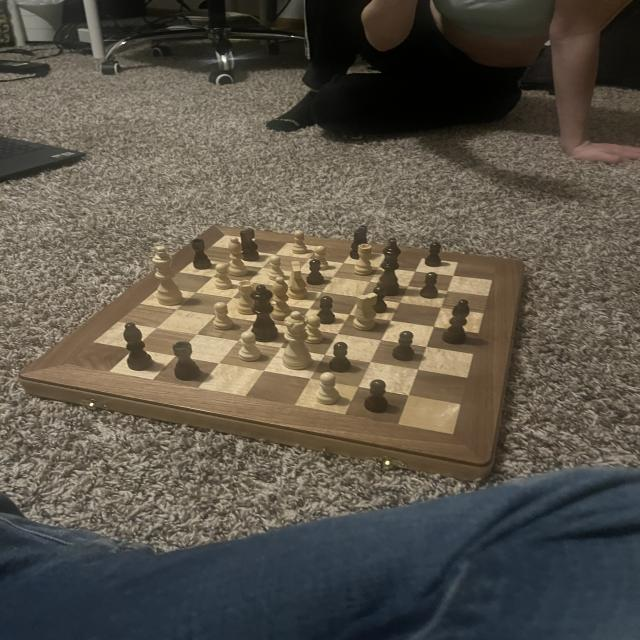bishop: (119, 321, 159, 373), (440, 298, 472, 346)
black-bishop: (373, 238, 403, 296)
black-king: (238, 227, 262, 264), (348, 224, 372, 260)
black-knight: (362, 378, 392, 415), (389, 330, 419, 362), (328, 340, 352, 375), (418, 270, 441, 301), (315, 296, 340, 324), (422, 240, 445, 268), (306, 258, 328, 287), (368, 286, 390, 315)
black-pawn: (250, 282, 280, 344)
black-queen: (169, 339, 205, 383), (191, 237, 212, 271)
black-rook: (270, 275, 296, 322), (226, 234, 252, 278)
white-bishop: (150, 243, 187, 310)
white-king: (350, 293, 383, 331), (286, 259, 310, 302)
white-knight: (236, 330, 265, 364), (313, 370, 341, 404), (299, 314, 328, 345), (210, 300, 237, 332), (211, 262, 238, 292), (266, 254, 289, 284), (308, 245, 332, 272), (291, 229, 309, 257)
white-pawn: (282, 310, 314, 370)
white-queen: (352, 241, 377, 276), (235, 279, 258, 316)
